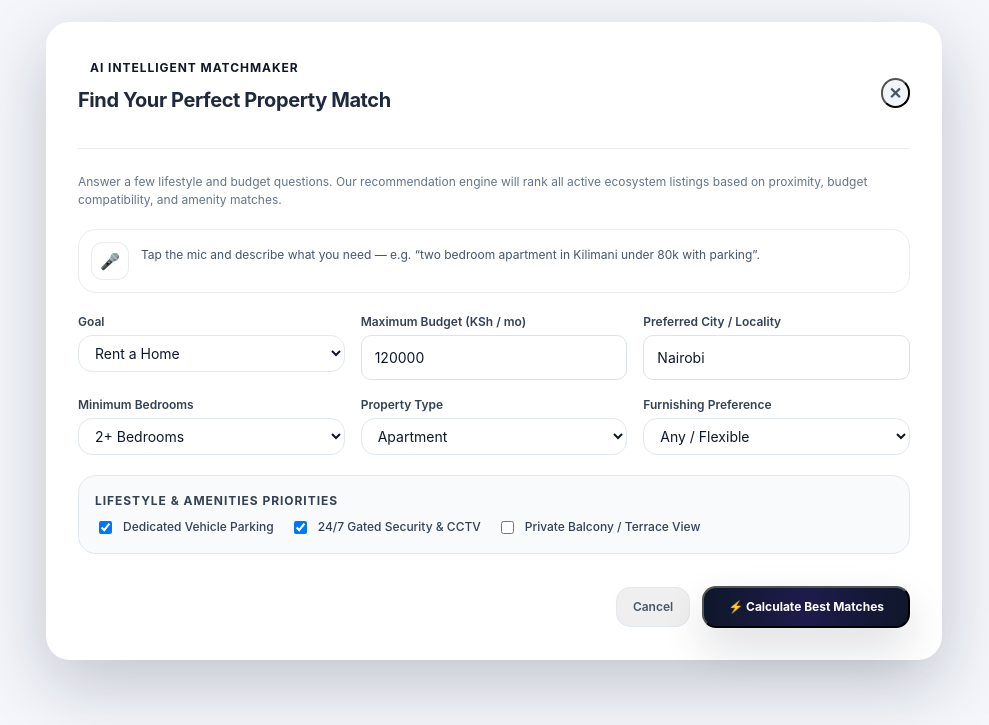
SmartMatchModal › shows the empty state when nothing matches
Click the button "⚡ Calculate Best Matches": (806, 607) [702,586,910,628]
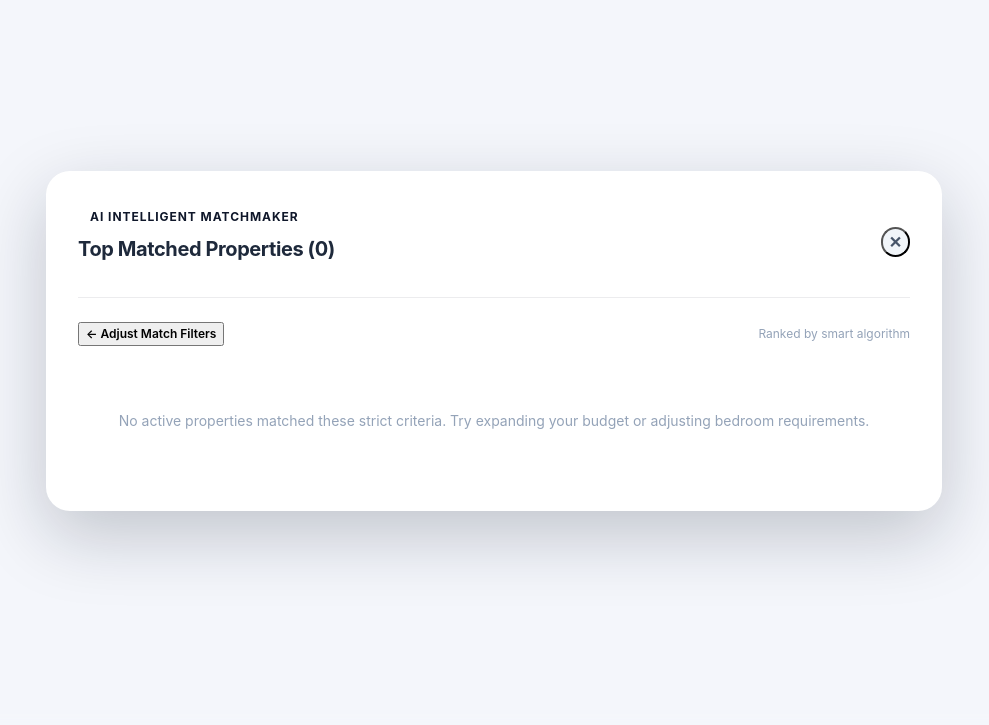
Result: the text "No active properties matched" is shown at [119,412,869,429]
